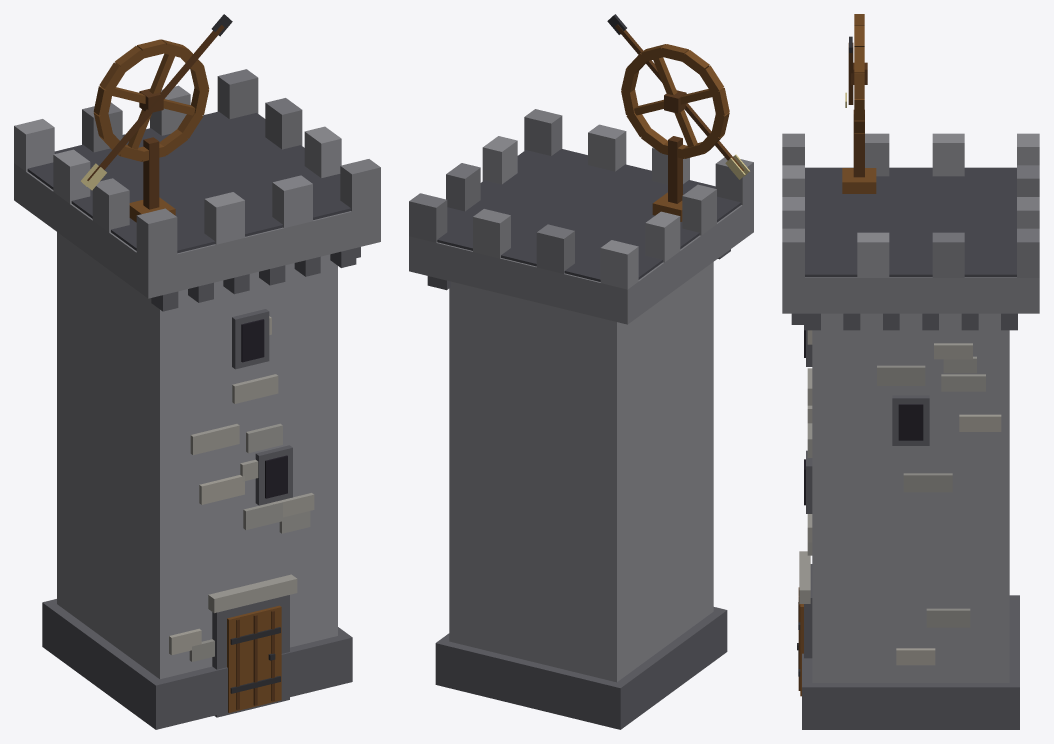
File: stage1.glb
The picture shows the model from 3 angles, left to right: view 1: azimuth 30°, elevation 25°; view 2: azimuth 150°, elevation 25°; view 3: azimuth 270°, elevation 25°; orthographic projection. The views are drawn at different scales.
Parts seen in each view (by area): view 1: body, ballista; view 2: body, ballista; view 3: body, ballista.
Part boxes in pixels (x1,y1,x2,y2): body: (14, 69, 380, 729); ballista: (81, 14, 232, 222); body: (409, 109, 753, 729); ballista: (607, 14, 749, 221); body: (782, 133, 1039, 729); ballista: (842, 14, 876, 193).
Size of the model in its own units: 3.08 by 7.62 by 2.74.
